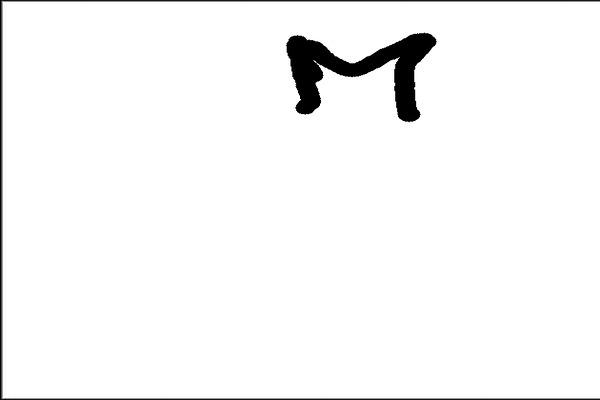M: (278, 32, 437, 123)
